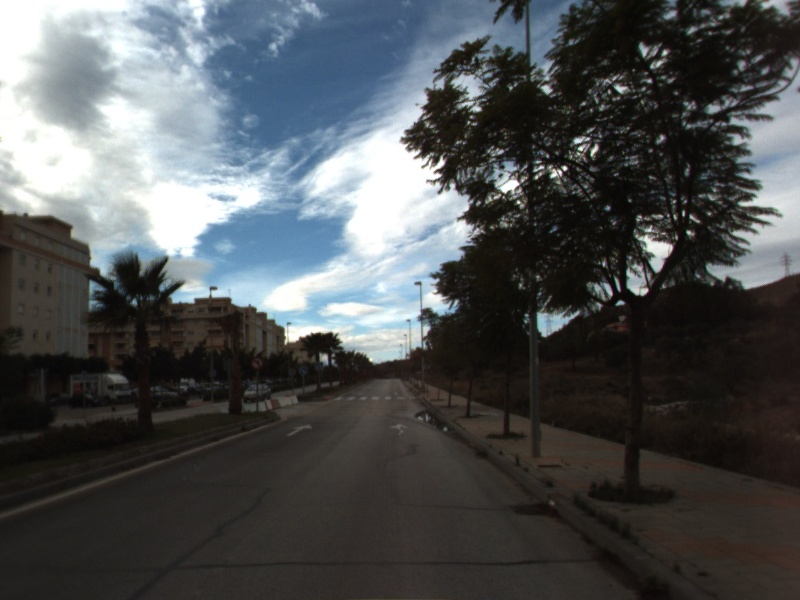STRAIGHT: (284, 422, 314, 438), (388, 421, 410, 438)
